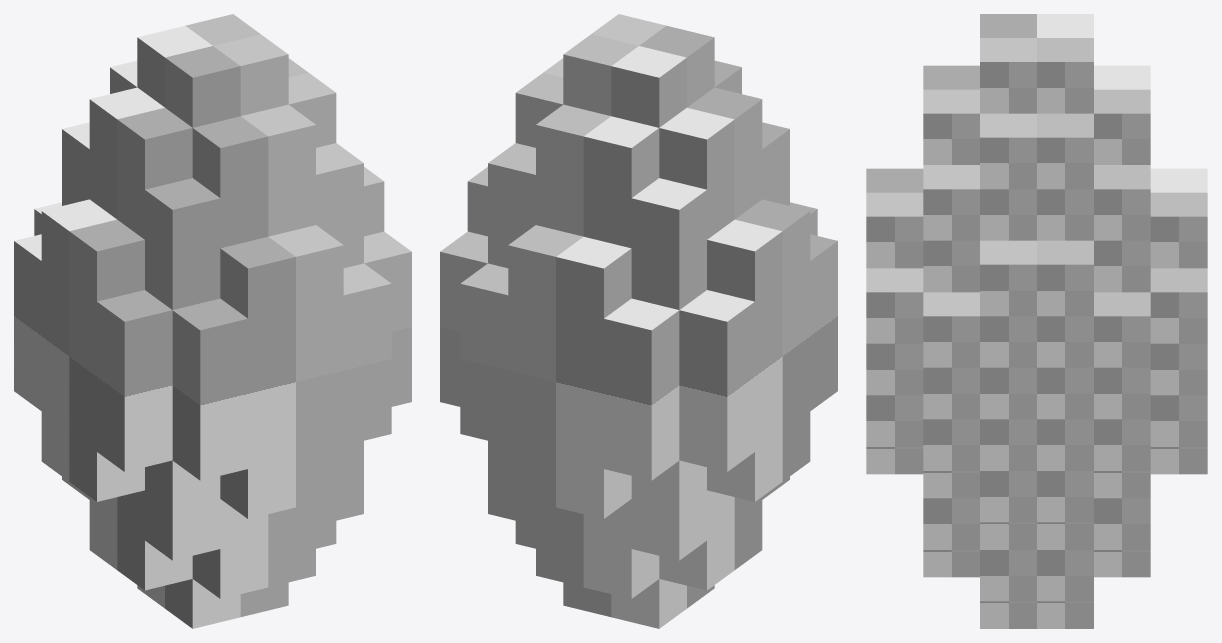
File: crystal2.obj
3 views of the same model, side by side, from view 1: azimuth 30°, elevation 25°; view 2: azimuth 150°, elevation 25°; view 3: azimuth 270°, elevation 25° (orthographic). The views are drawn at different scales.
Visible parts, largest first — view 1: model; view 2: model; view 3: model.
Boxes of the visible parts, x1=… form: model: x1=14, y1=14, x2=411, y2=628; model: x1=440, y1=14, x2=837, y2=628; model: x1=866, y1=14, x2=1207, y2=628.
Bounding box in the file's own units: 2.25 × 4.12 × 2.25.
